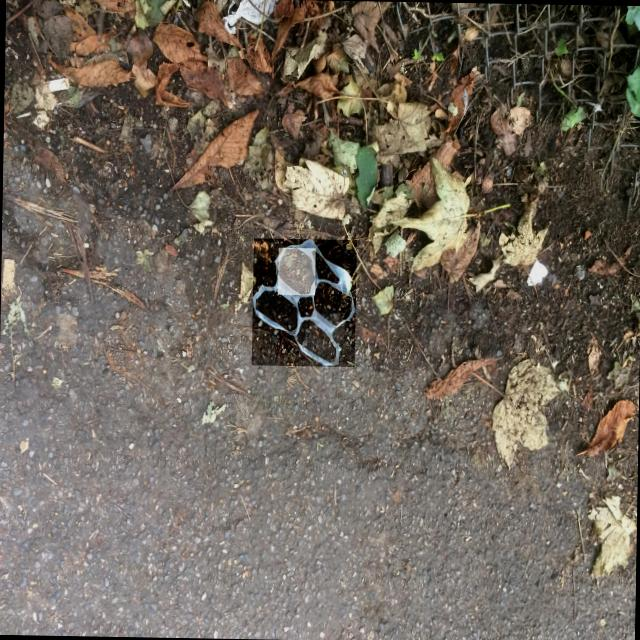Cigarette: (43, 77, 69, 91)
Other plastic: (252, 240, 355, 366), (278, 248, 314, 295), (256, 290, 297, 331)
Unlabeled litter: (224, 0, 278, 33)
